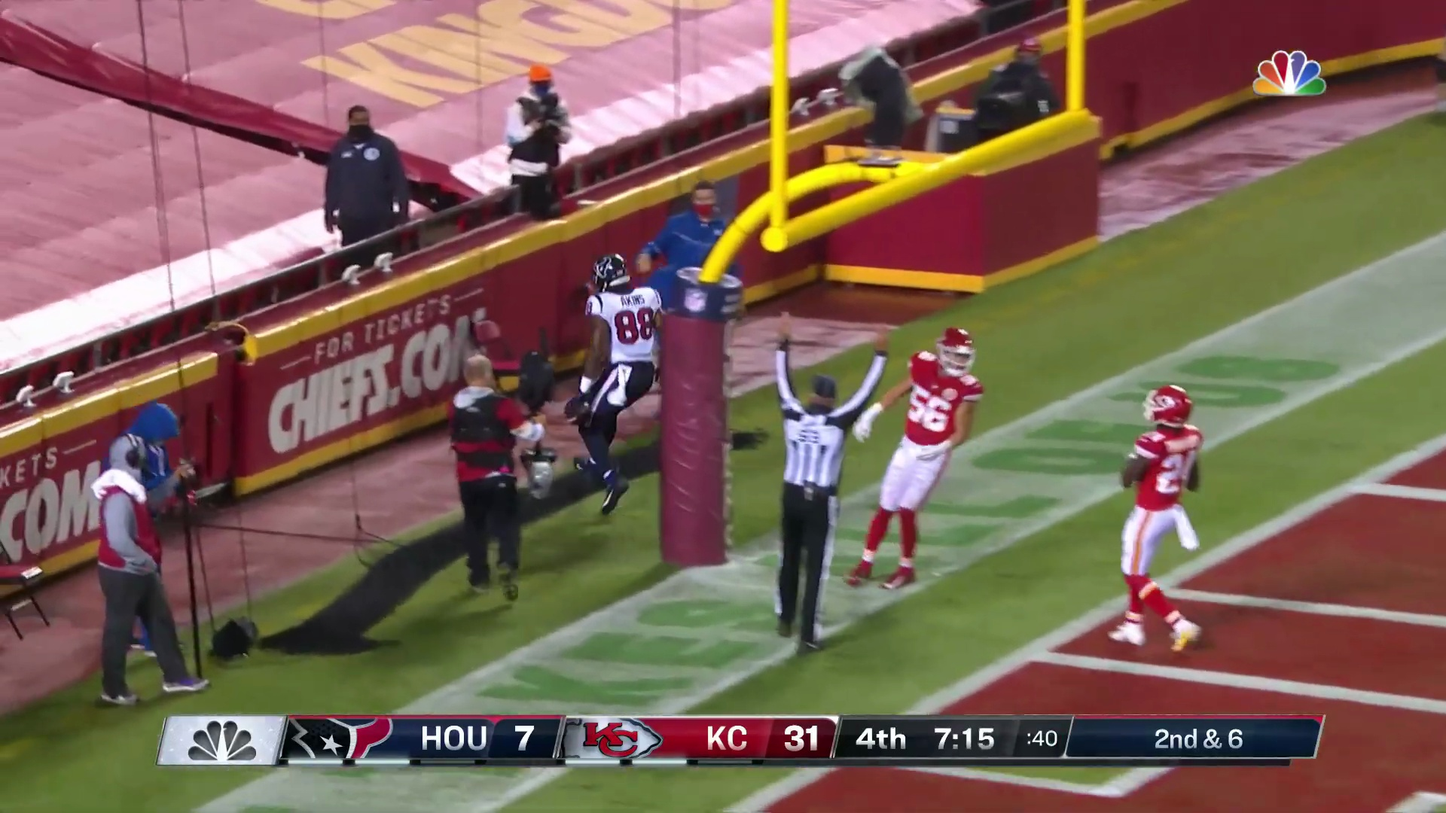Player: (1113, 383, 1201, 646), (575, 248, 661, 475)
